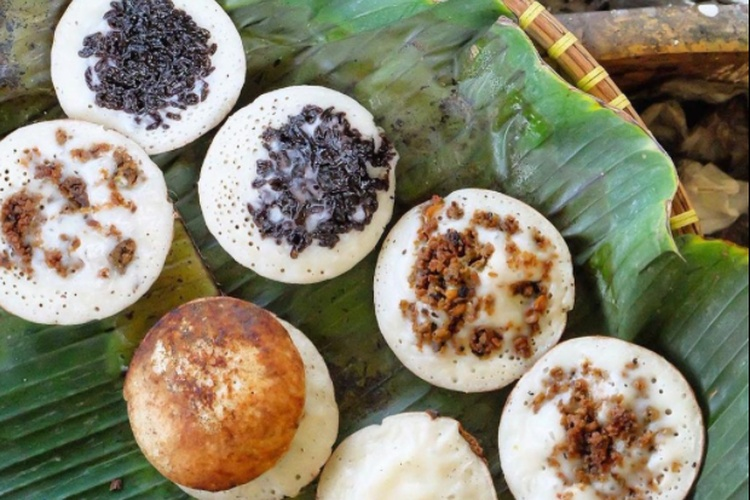srabi: (380, 193, 576, 402), (186, 84, 397, 272), (50, 9, 239, 137)
